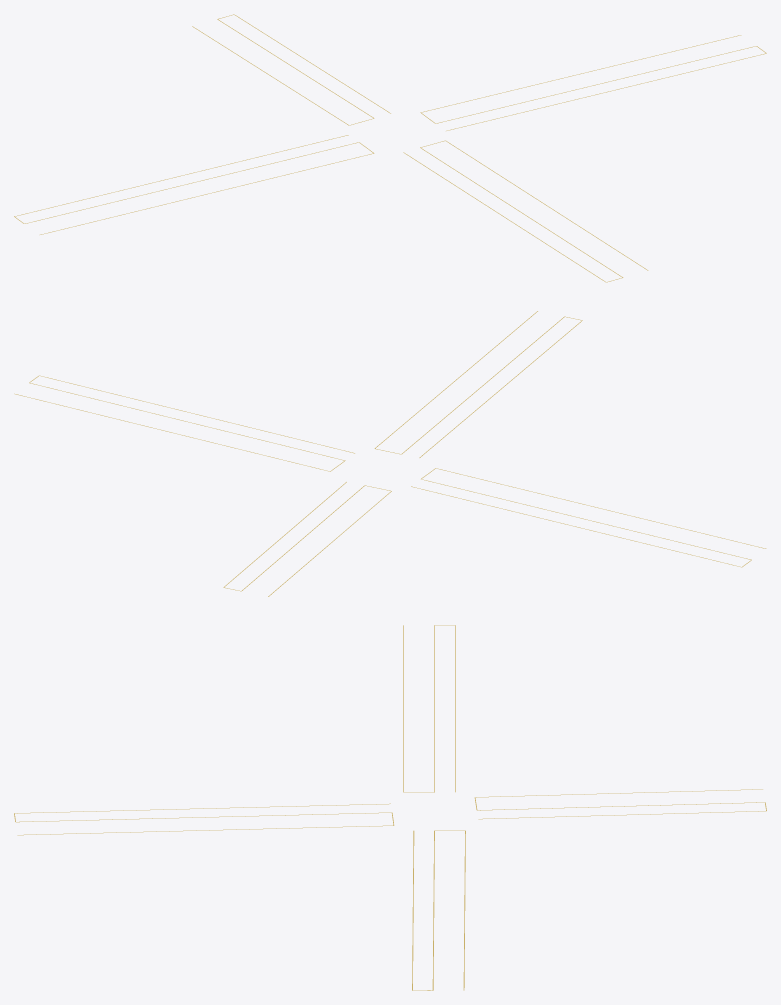
File: road_lines.glb
3 views of the same model, one above another, from view 1: azimuth 30°, elevation 25°; view 2: azimuth 150°, elevation 25°; view 3: azimuth 270°, elevation 25° (orthographic). The views are drawn at different scales.
Size of the model in its own units: 269 by 0 by 234.
